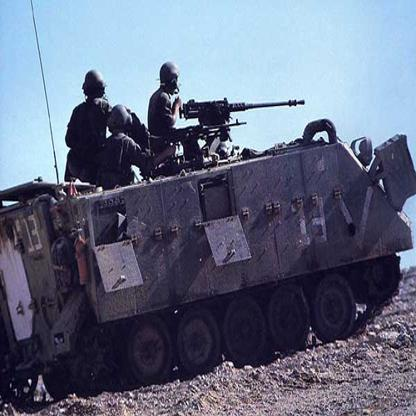Tank: (1, 124, 416, 405)
